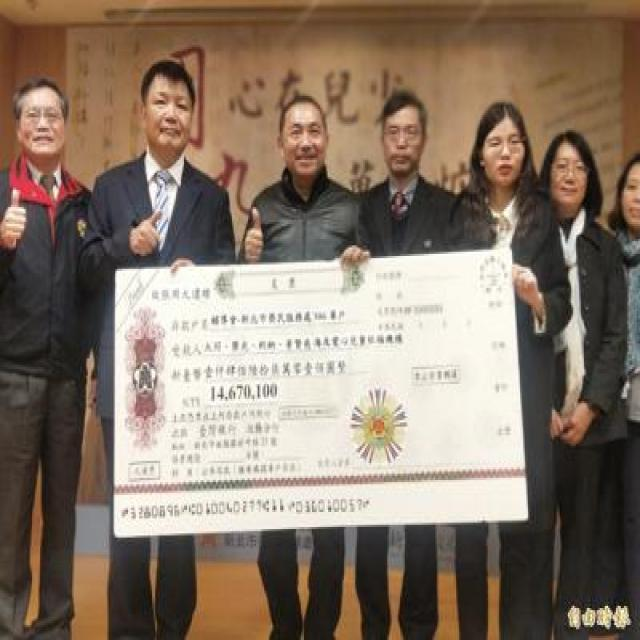without_mask: (145, 87, 193, 153), (17, 101, 65, 159), (281, 118, 326, 176), (481, 131, 526, 185), (382, 118, 425, 172), (548, 157, 588, 206), (619, 174, 640, 227)
